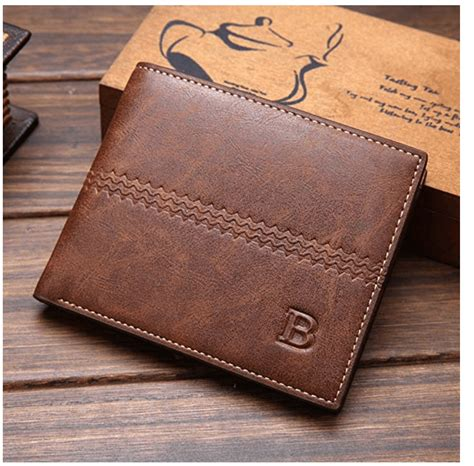cuero: (31, 61, 428, 412)
